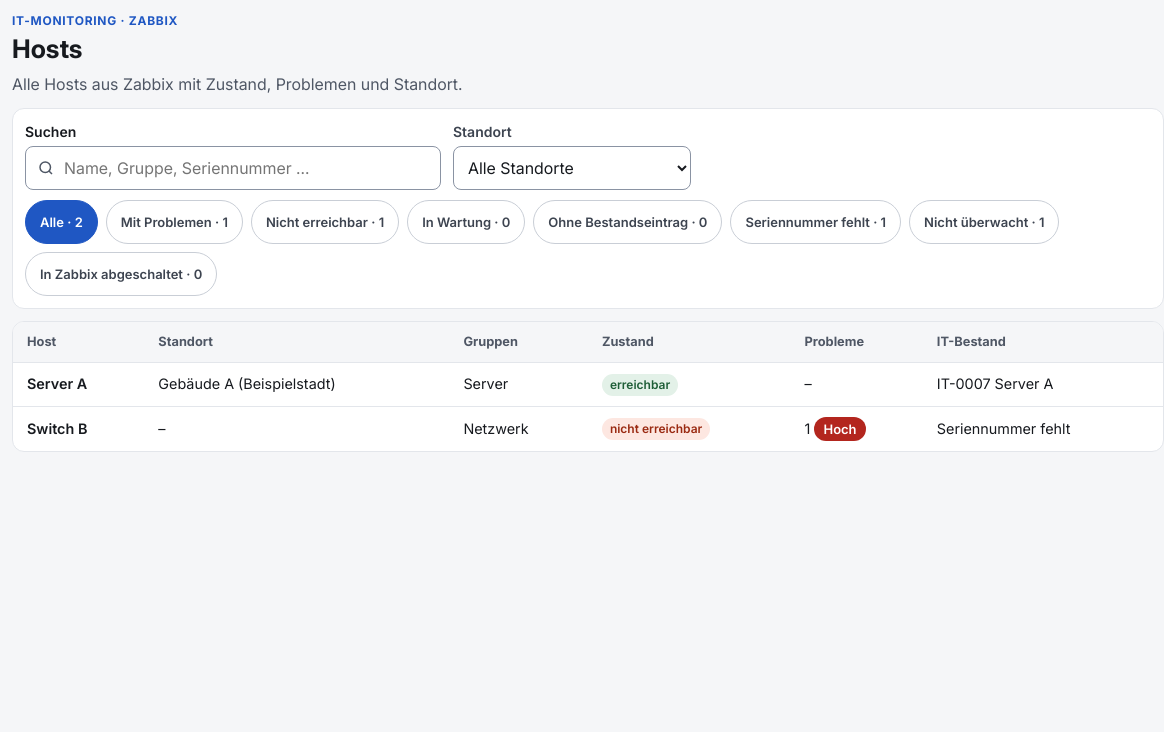
ZabbixHostsPage › filtert nach Lücken im IT-Bestand
Expected: the link "Server A" is shown, [27,375,87,392]
Expected: the text "IT-0007 Server A" is shown, [923,362,1163,406]
Click the button "Seriennummer fehlt · 1" at x=816, y=222, box [730,200,901,244]
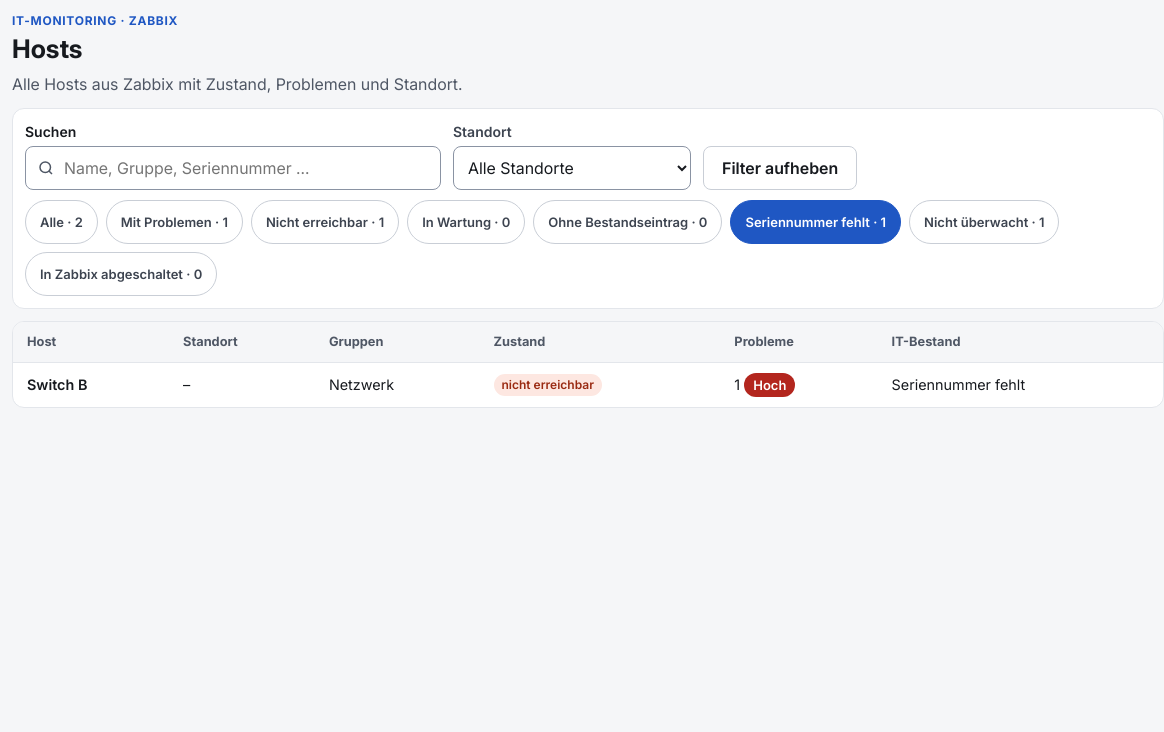
Expected: the link "Switch B" is shown, [27,376,87,393]
Expected: the link "Server A" is gone
Click the button "Nicht überwacht · 1" at x=984, y=222, box [909,200,1060,244]
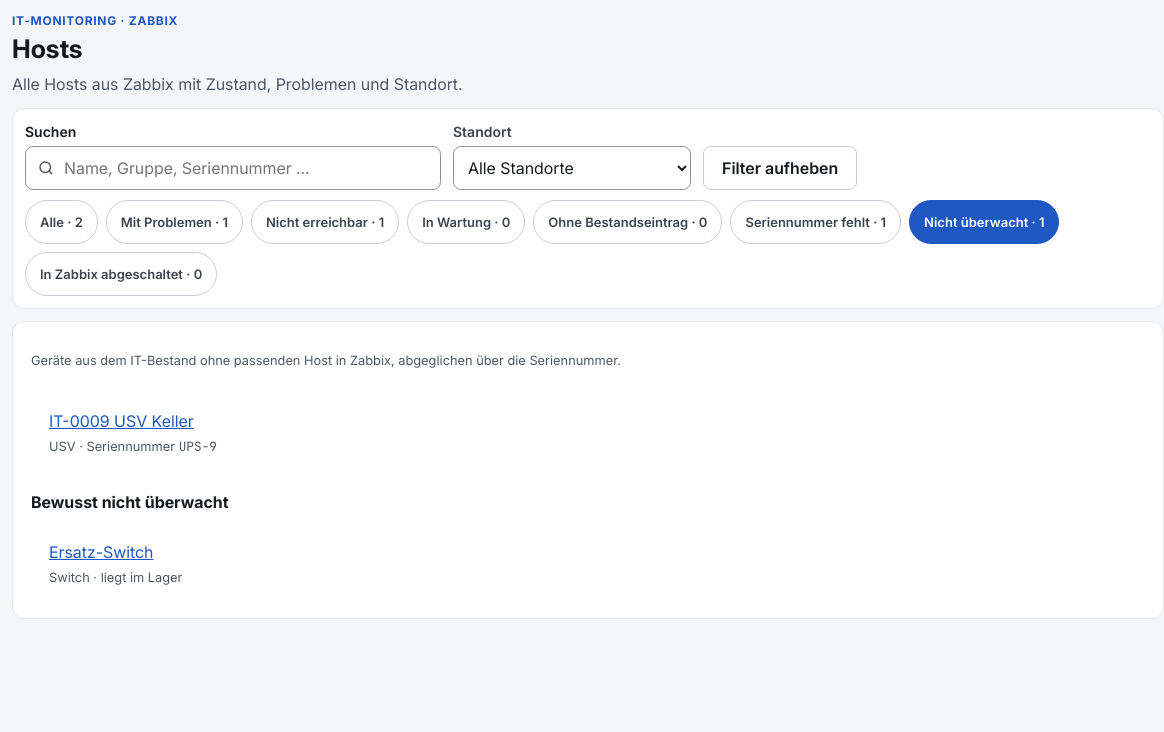
Expected: the link "IT-0009 USV Keller" is shown, [49,411,194,431]
Expected: the text "Switch · liegt im Lager" is shown, [49,570,182,585]
